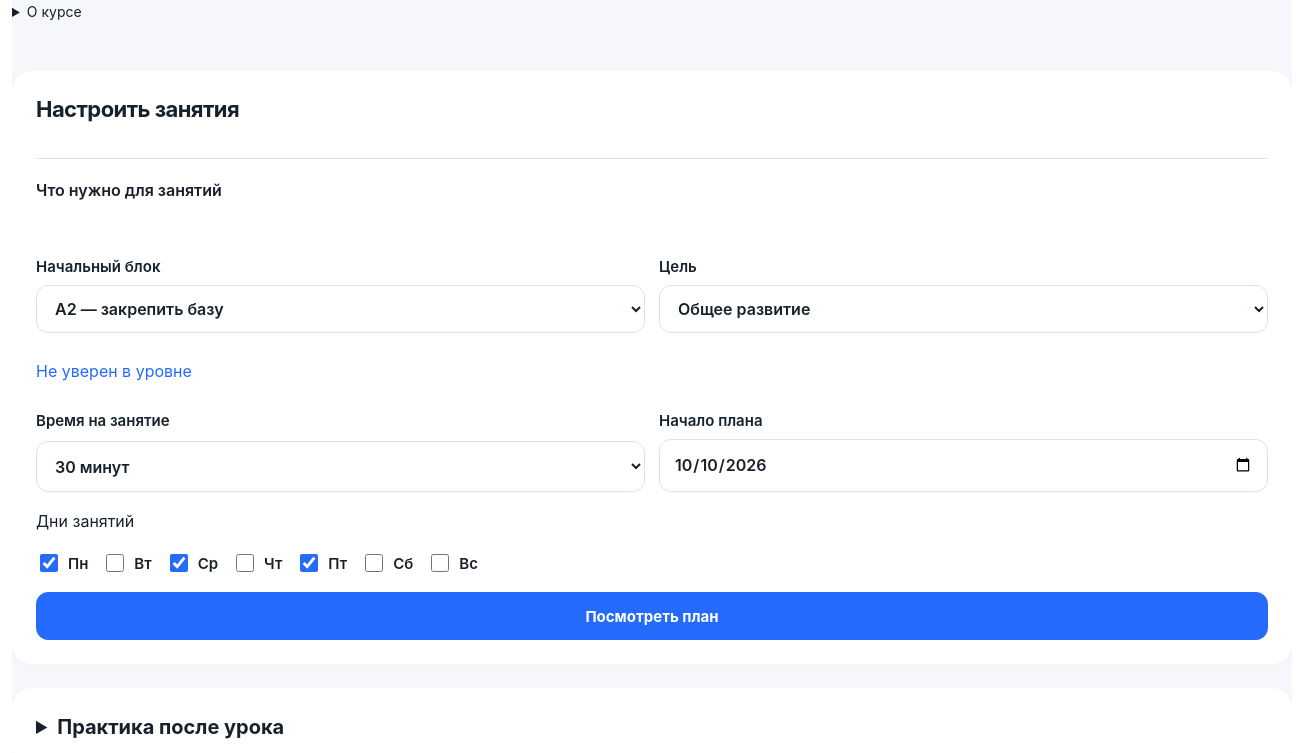
Test: plan preview requires explicit activation
Click the button "Посмотреть план" at x=652, y=616, box [36, 592, 1268, 640]
(page scrolled)
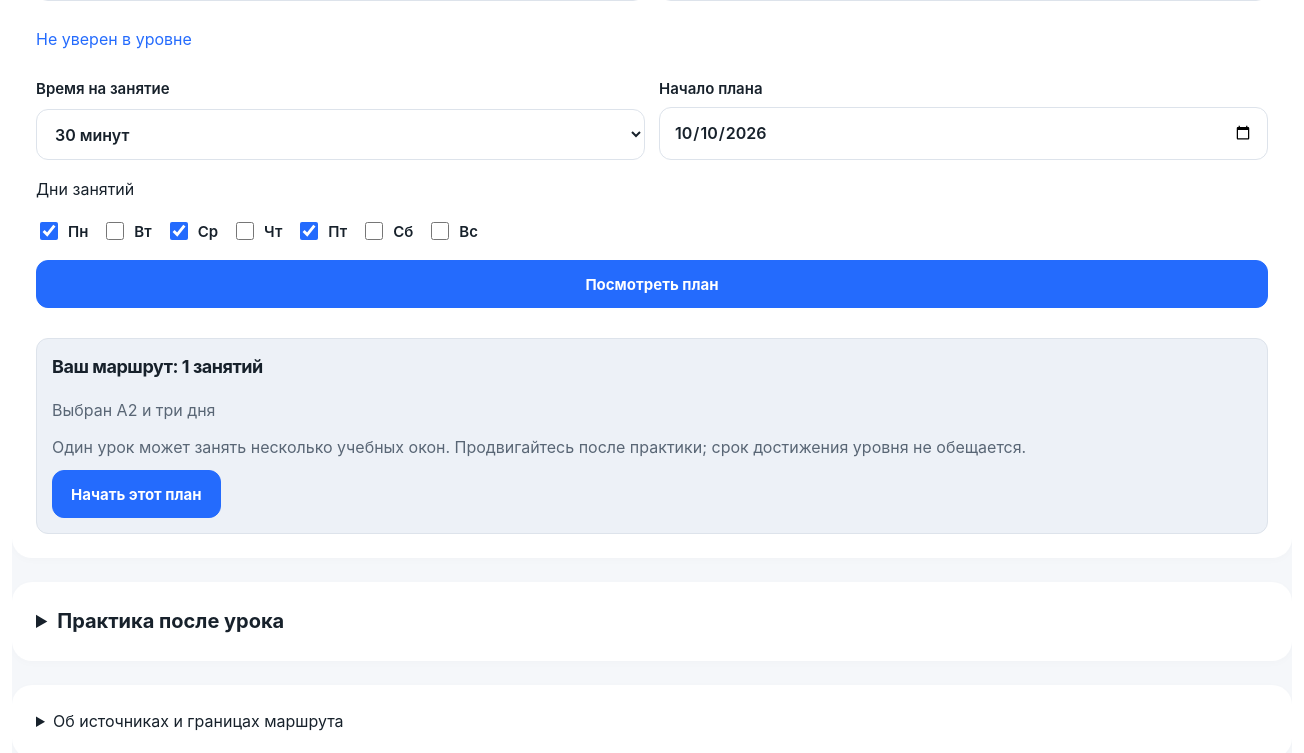
Now the text "Выбран A2 и три дня" is shown, box [52, 400, 215, 420]
Click the button "Начать этот план" at x=136, y=494, box [52, 470, 221, 518]
(page scrolled)
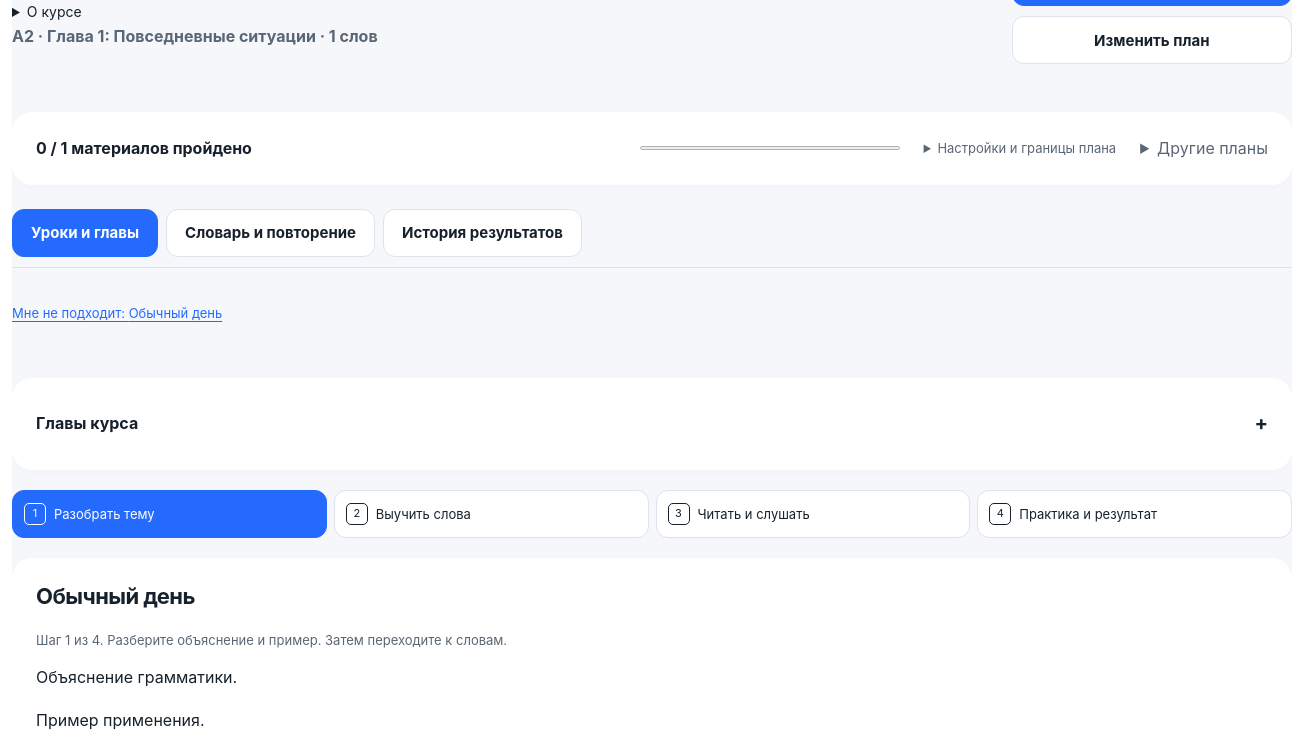
Now the heading "Обычный день" is shown, box [36, 583, 195, 609]
